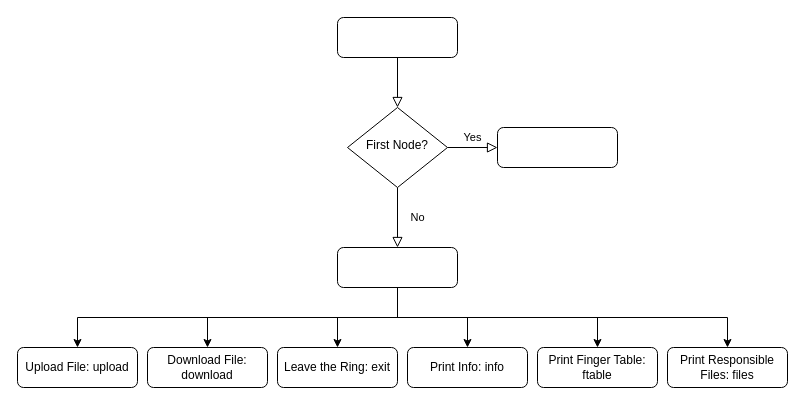
Image size: 805x405. Some labels were removed from this diagram. The shapes that lost their labels are listed below. From the top down, each one's centre as x and y in pixels, then its label:
At (397,37): "Chord Start".
At (557,147): "Join".
At (397,267): "Join <exist ip/port>".
